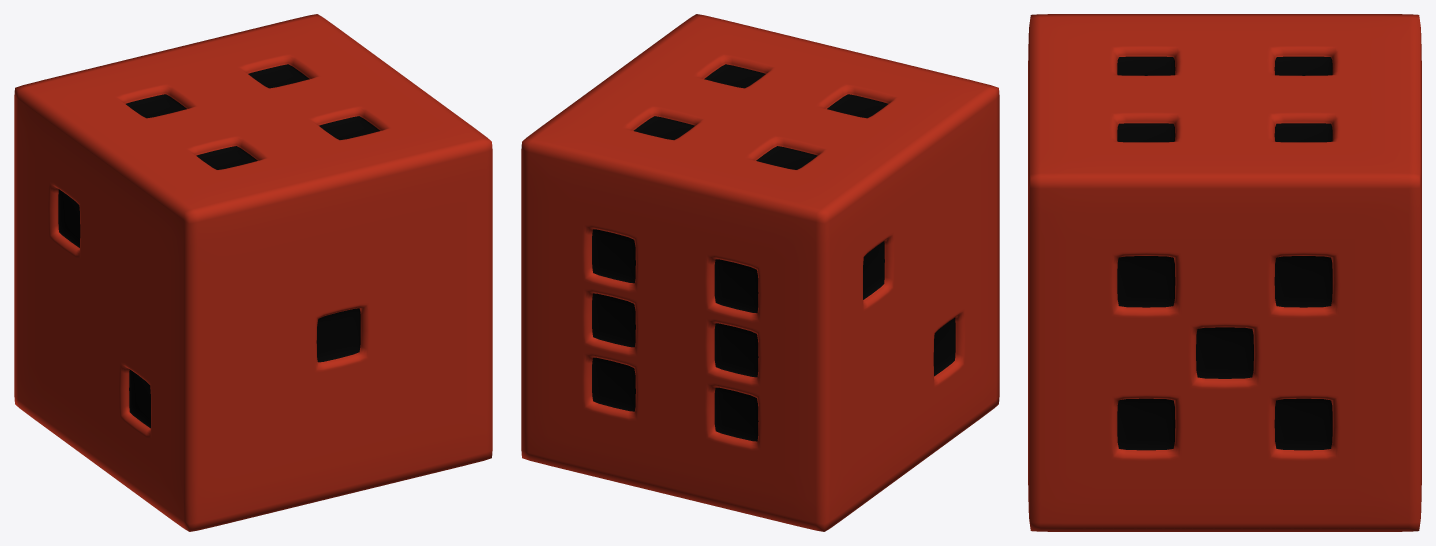
The model's file is dice.fbx.
3 renders of one model, left to right at view 1: azimuth 30°, elevation 25°; view 2: azimuth 150°, elevation 25°; view 3: azimuth 270°, elevation 25°, orthographic. The views are drawn at different scales.
Parts seen in each view (by area): view 1: dicewithdrip:pCube2; view 2: dicewithdrip:pCube2; view 3: dicewithdrip:pCube2.
Boxes of the visible parts, x1=… form: dicewithdrip:pCube2: x1=14, y1=14, x2=492, y2=531; dicewithdrip:pCube2: x1=521, y1=14, x2=999, y2=531; dicewithdrip:pCube2: x1=1028, y1=14, x2=1421, y2=531.
Size of the model in its own units: 2.6 by 2.6 by 2.6.
